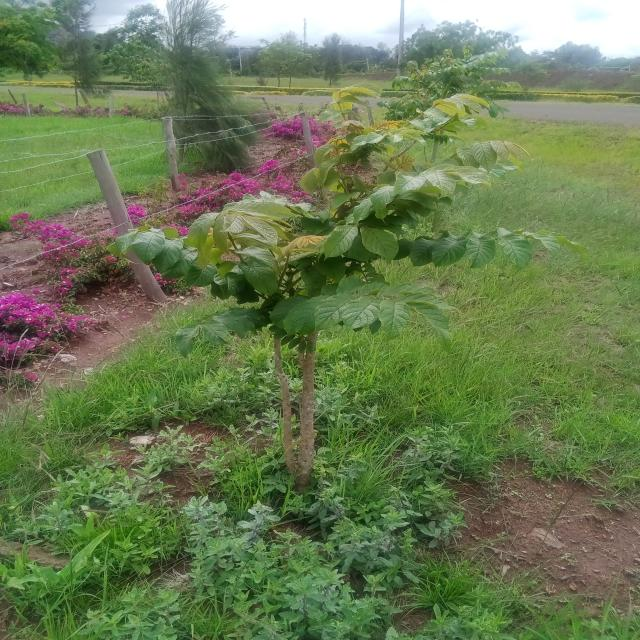Polyscias Kikuyensis: (137, 92, 507, 520), (379, 54, 537, 123)
